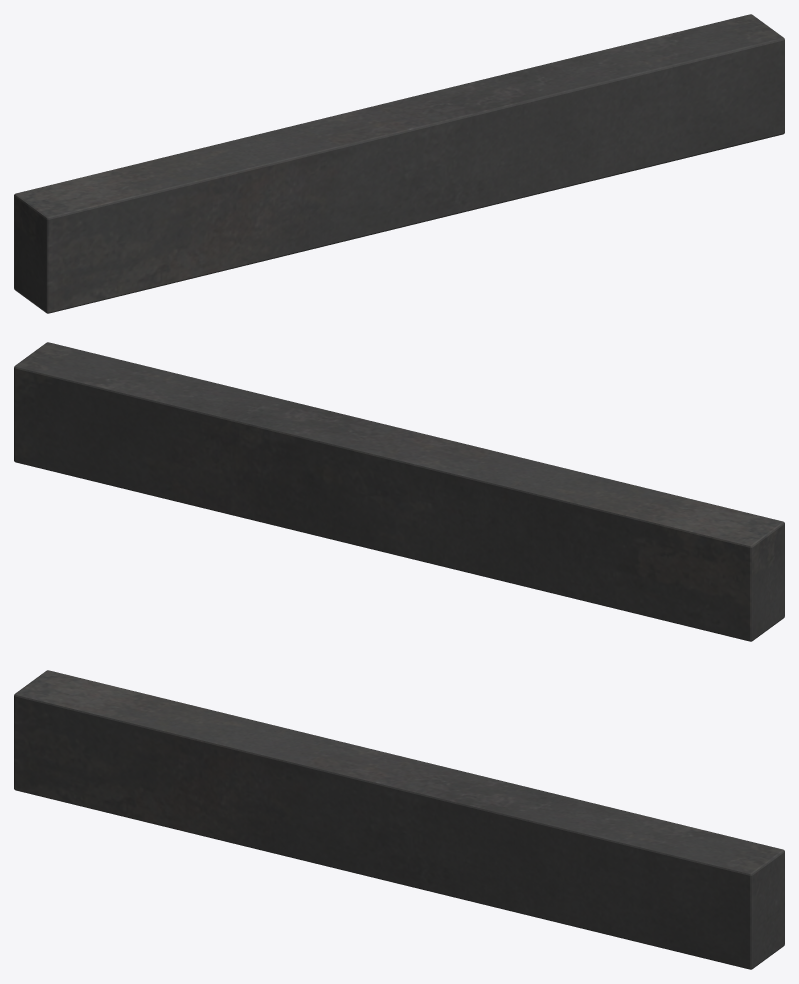
Rendered from SM_GarageConcrete_LowerEmbeddedPanel.fbx.
3 renders of one model, top to bottom at view 1: azimuth 30°, elevation 25°; view 2: azimuth 150°, elevation 25°; view 3: azimuth 330°, elevation 25°, orthographic.
Visible parts, largest first — view 1: SM_GarageConcrete_LowerEmbeddedPanel; view 2: SM_GarageConcrete_LowerEmbeddedPanel; view 3: SM_GarageConcrete_LowerEmbeddedPanel.
Part boxes in pixels (x1,y1,x2,y2): SM_GarageConcrete_LowerEmbeddedPanel: (14,14,784,313); SM_GarageConcrete_LowerEmbeddedPanel: (14,342,784,641); SM_GarageConcrete_LowerEmbeddedPanel: (14,670,784,969).
Bounding box in the file's own units: 200 × 16 × 25.
